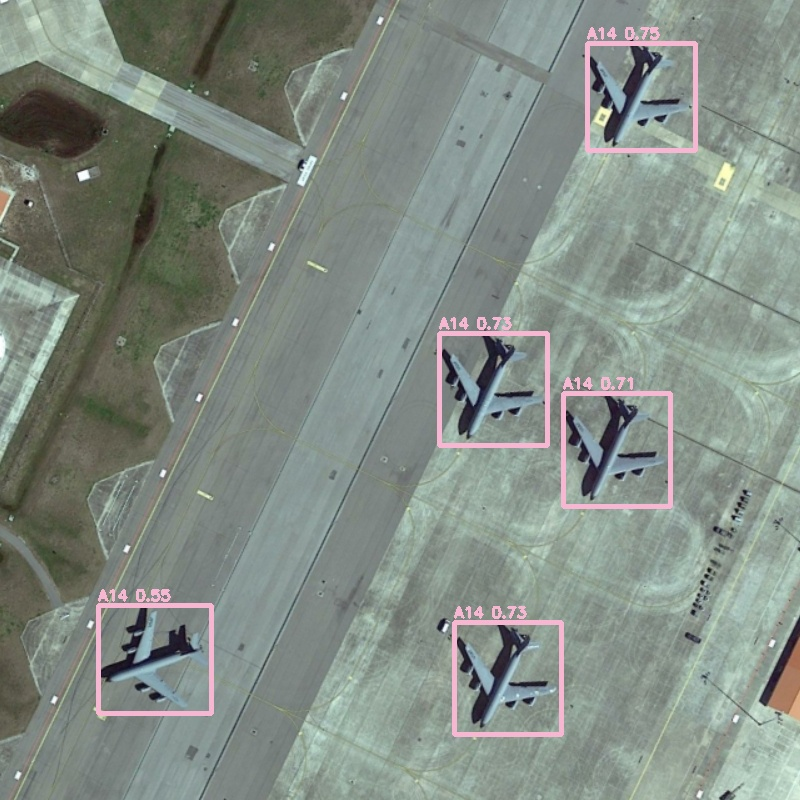A14: (98, 605, 211, 713), (439, 333, 547, 445), (563, 393, 670, 506), (454, 622, 561, 734), (587, 43, 695, 150)
